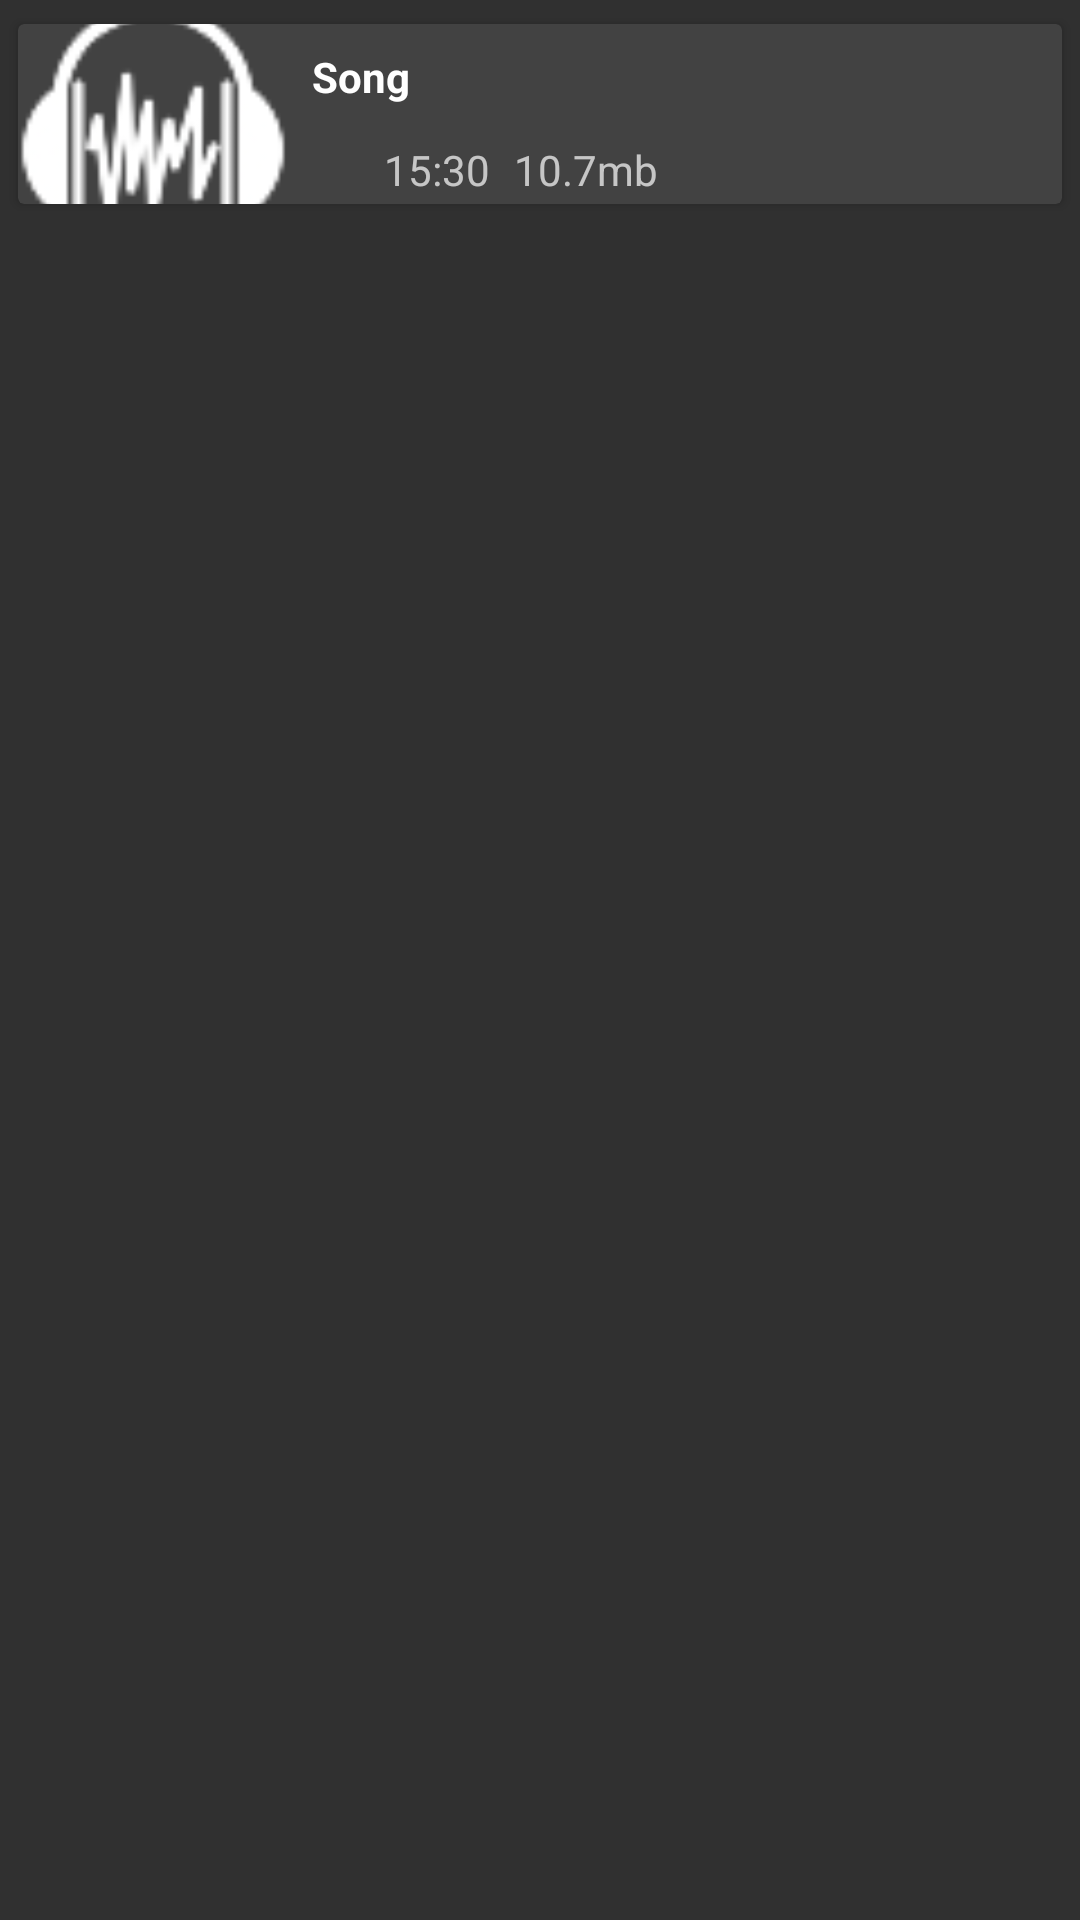

Screen size 1080×1920. Icon name, then its box in pixels as (x1, y1, x2, y2):
cascos: (20, 24, 286, 204)
